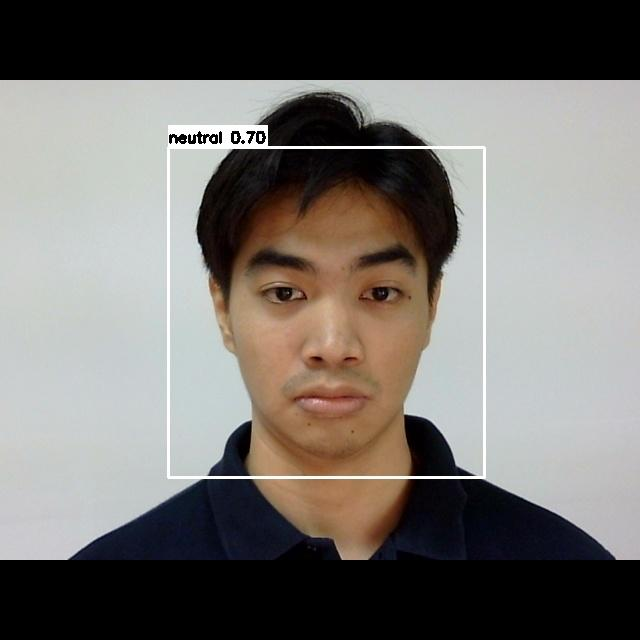Fear: (225, 214, 441, 443)
